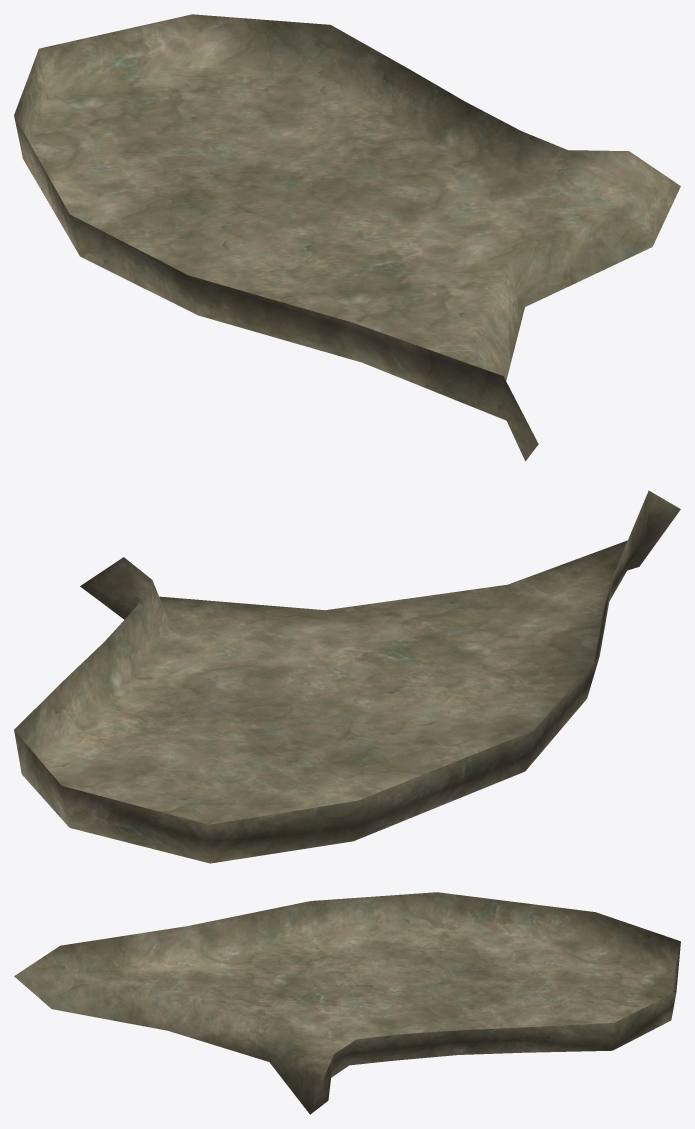
Rendered from EKH_CAVERNS_PS_CA_PLATFORM95857399.fbx.
3 views of the same model, one above another, from view 1: azimuth 30°, elevation 25°; view 2: azimuth 150°, elevation 25°; view 3: azimuth 270°, elevation 25° (orthographic). The views are drawn at different scales.
Visible parts, largest first — view 1: EKH_CAVERNS_PS_CA_PLATFORM95857399; view 2: EKH_CAVERNS_PS_CA_PLATFORM95857399; view 3: EKH_CAVERNS_PS_CA_PLATFORM95857399.
Boxes of the visible parts, x1,y1,x2,y2 form: EKH_CAVERNS_PS_CA_PLATFORM95857399: (14, 14, 680, 461); EKH_CAVERNS_PS_CA_PLATFORM95857399: (14, 490, 680, 863); EKH_CAVERNS_PS_CA_PLATFORM95857399: (14, 892, 680, 1114).
Bounding box in the file's own units: 73000 × 11106 × 115351.
Materials: 1 (1 with a texture image).
